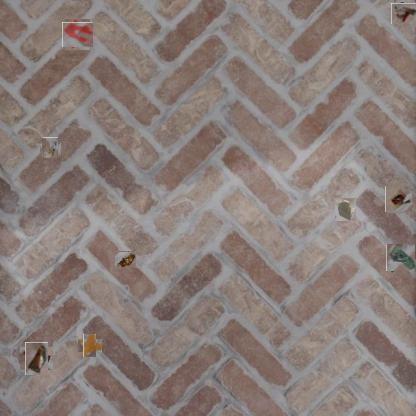dirty: (387, 243, 415, 272), (23, 344, 50, 372), (386, 186, 412, 213), (392, 1, 416, 25), (334, 198, 356, 222), (114, 251, 136, 267), (41, 139, 60, 157)
liquid: (64, 20, 91, 48), (81, 336, 99, 355)
